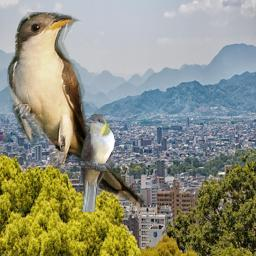Cuckoo: (7, 12, 147, 214), (79, 114, 115, 212)
